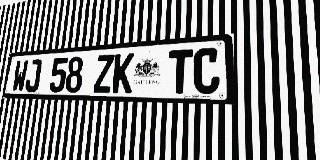5: (49, 57, 68, 92)
8: (65, 56, 85, 93)
C: (193, 47, 220, 94)
J: (24, 59, 42, 92)
K: (112, 53, 134, 93)
T: (168, 49, 193, 94)
W: (11, 60, 29, 92)
Z: (93, 54, 114, 93)
